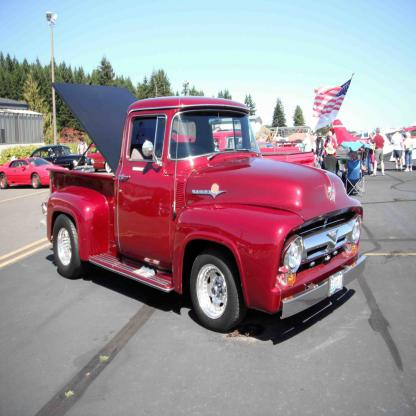Car: (1, 158, 70, 190), (30, 144, 87, 170), (87, 145, 113, 173)
Truck: (41, 82, 366, 333)
